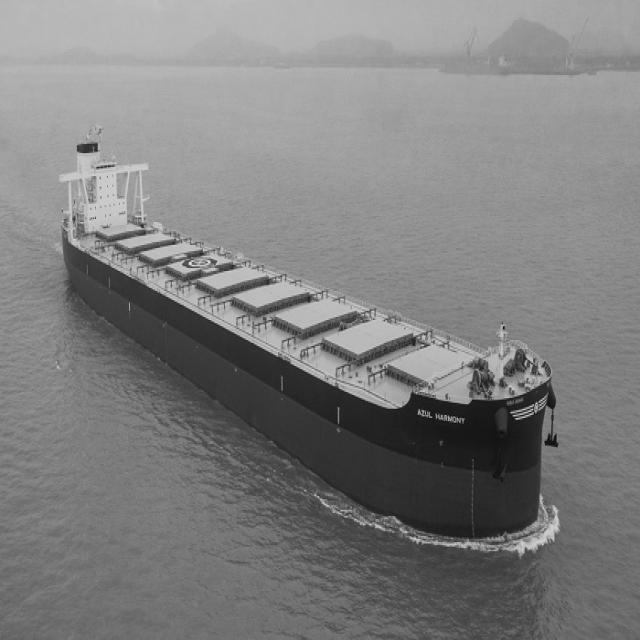Bulk-Carrier: (52, 103, 564, 557)
